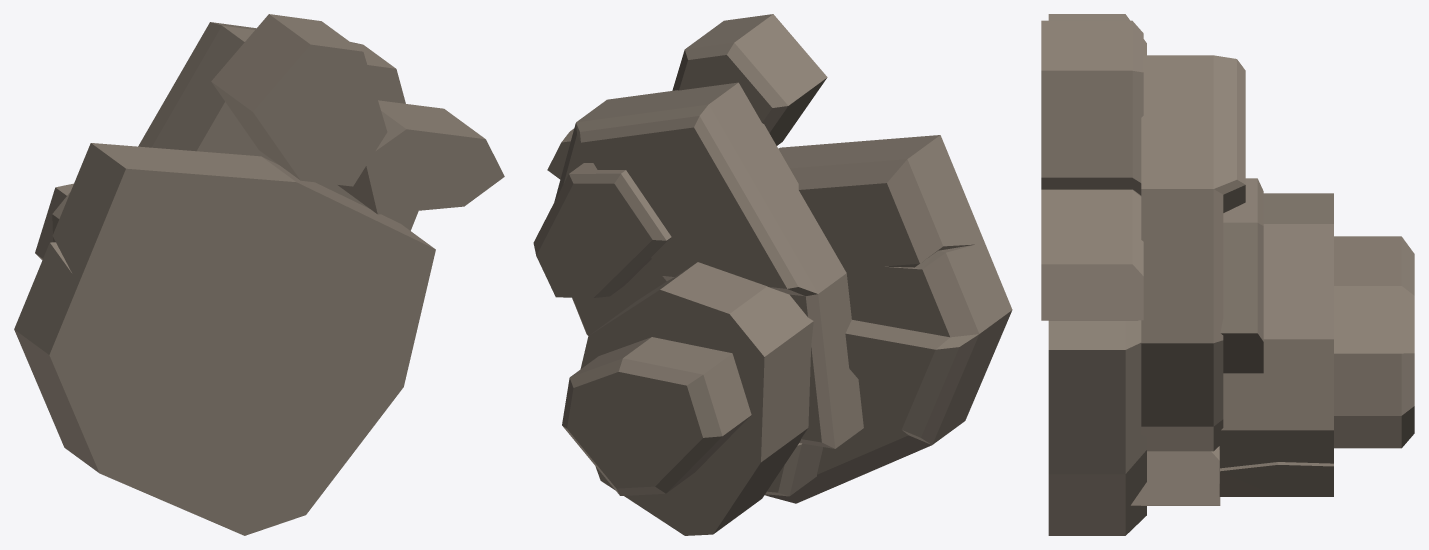
Rendered from stone5.dae.
3 renders of one model, left to right at view 1: azimuth 30°, elevation 25°; view 2: azimuth 150°, elevation 25°; view 3: azimuth 270°, elevation 25°, orthographic. The views are drawn at different scales.
Visible parts, largest first — view 1: Rock Type1 02 mesh; view 2: Rock Type1 02 mesh; view 3: Rock Type1 02 mesh.
Part boxes in pixels (x1,y1,x2,y2): Rock Type1 02 mesh: (14, 14, 504, 535); Rock Type1 02 mesh: (533, 14, 1012, 535); Rock Type1 02 mesh: (1041, 14, 1414, 535).
Bounding box in the file's own units: 3.31 × 2.17 × 3.35.
1 material, 1 textured.
